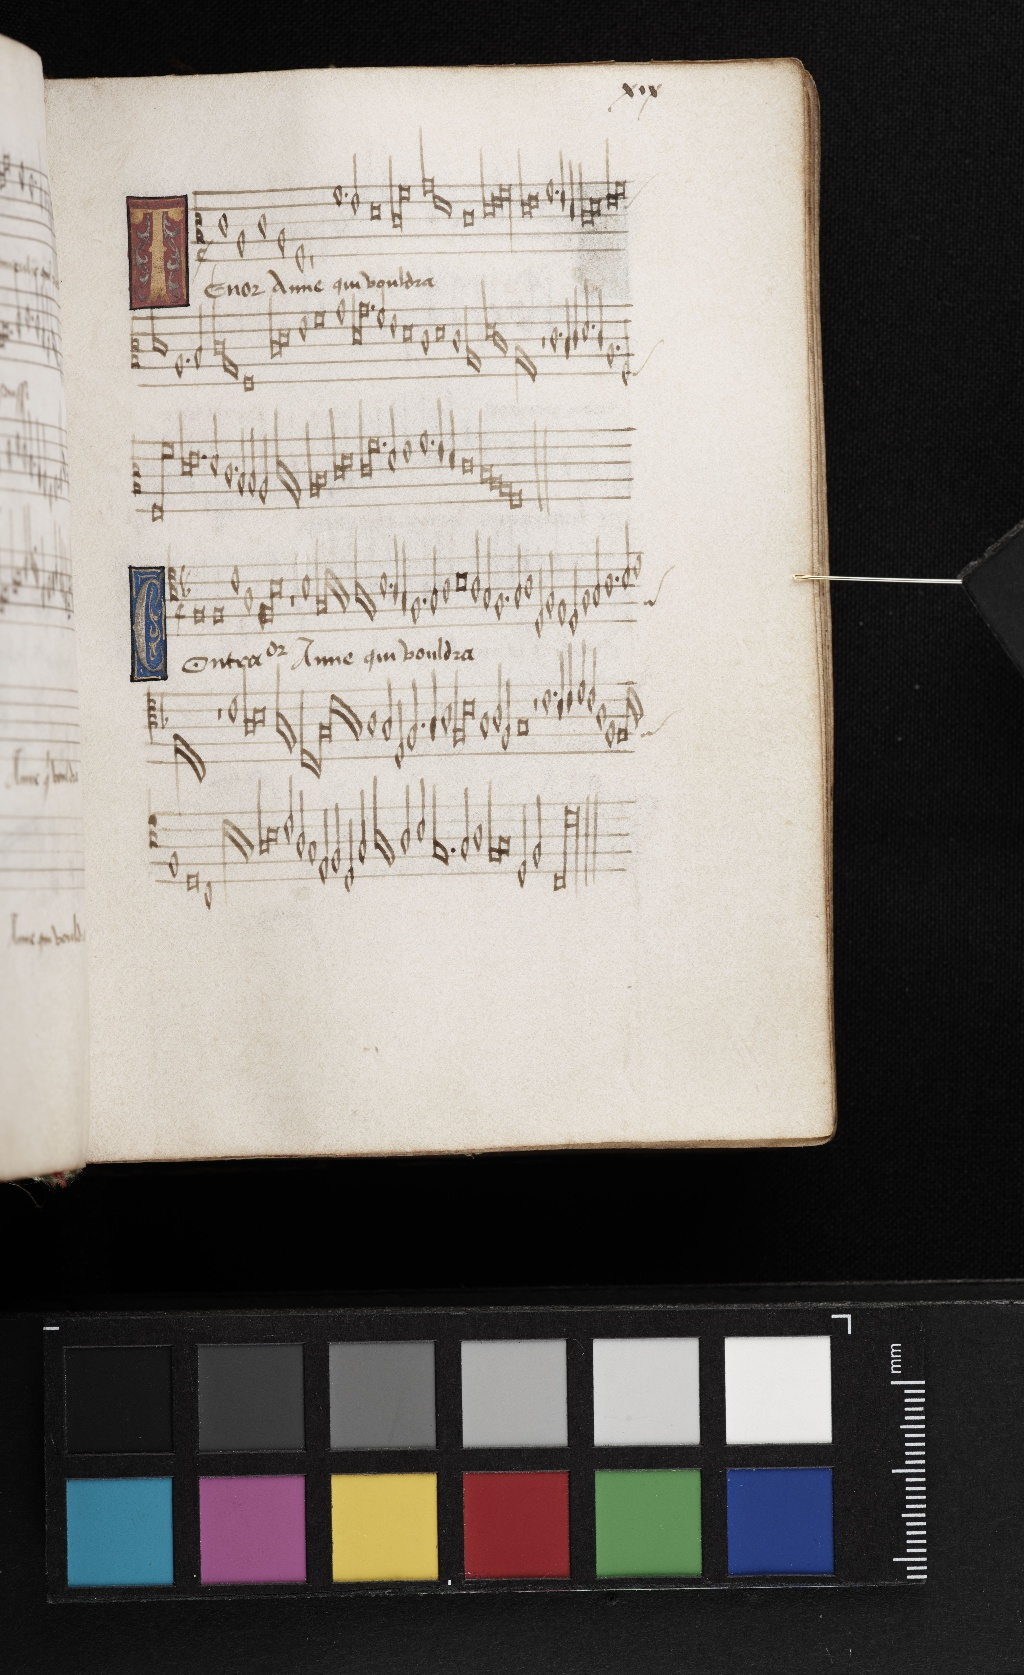Imincut: (171, 602, 188, 632)
breve_6: (453, 564, 471, 598)
breve_9: (188, 593, 211, 628), (206, 592, 228, 626)
c clef_5: (166, 562, 179, 603)
custos_9: (642, 575, 662, 615)
flat_6: (177, 560, 196, 603)
l1breve_9: (255, 569, 273, 634)
l1semibreve_8: (310, 541, 331, 619)
l2breve_6: (269, 566, 284, 617)
minim_11: (534, 568, 545, 640), (567, 562, 579, 634)
minim_6: (590, 532, 602, 605), (513, 541, 525, 613), (622, 516, 634, 587)
minim_7: (469, 528, 482, 607)
minim_8: (484, 529, 494, 615), (428, 546, 438, 619)
minim_9: (544, 558, 557, 619)
o1semibreve_7: (349, 532, 364, 629)
o2breve_8: (336, 560, 349, 616)
o2semibreve_5: (323, 560, 336, 616)
o2semibreve_9: (364, 532, 379, 629)
point: (612, 568, 627, 597), (499, 587, 508, 604), (388, 580, 396, 593), (423, 603, 429, 613)
semibreve rest: (286, 560, 298, 632)
semibreve_10: (554, 593, 567, 631)
semibreve_5: (228, 562, 244, 595), (634, 546, 647, 583)
semibreve_6: (298, 568, 313, 605), (376, 572, 390, 604)
semibreve_7: (440, 571, 455, 608), (239, 578, 255, 611), (523, 568, 536, 605), (601, 568, 612, 596)
semibreve_9: (408, 589, 425, 631), (490, 585, 507, 626), (579, 584, 592, 621)
semiminim_7: (390, 540, 400, 613)
semiminim_8: (398, 542, 409, 622)
